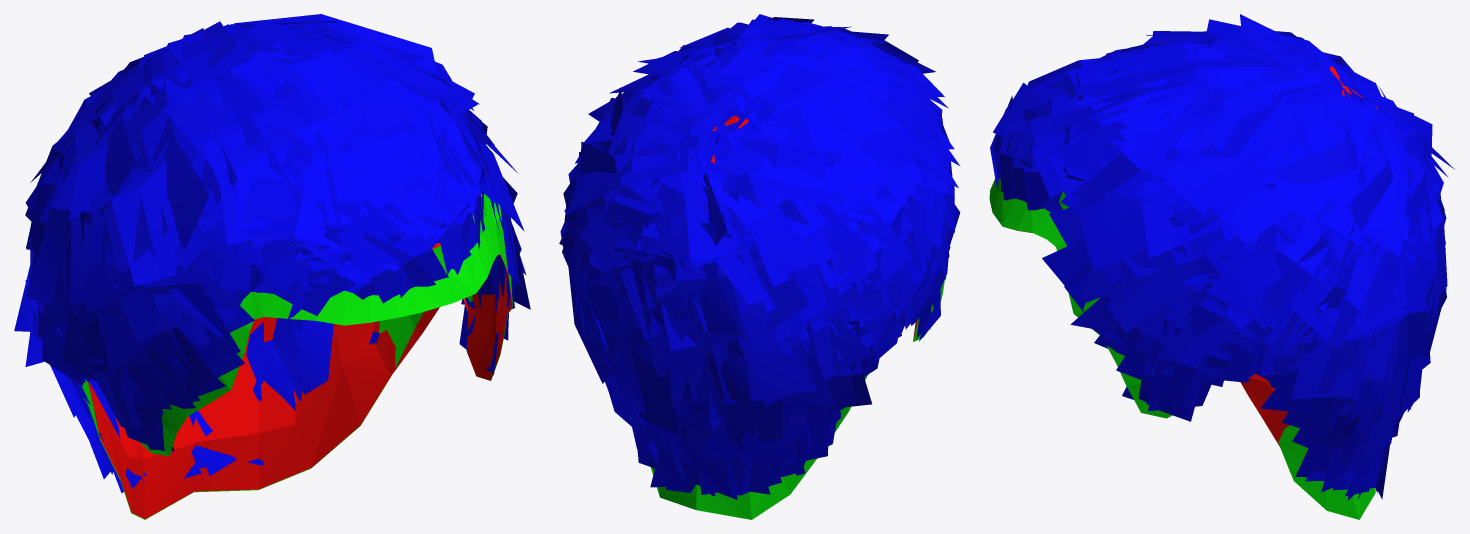
The model's file is hair_010.obj.
The picture shows the model from 3 angles, left to right: view 1: azimuth 30°, elevation 25°; view 2: azimuth 150°, elevation 25°; view 3: azimuth 270°, elevation 25°; orthographic projection. The views are drawn at different scales.
Bounding box in the file's own units: 18.65 × 21.69 × 20.22.
